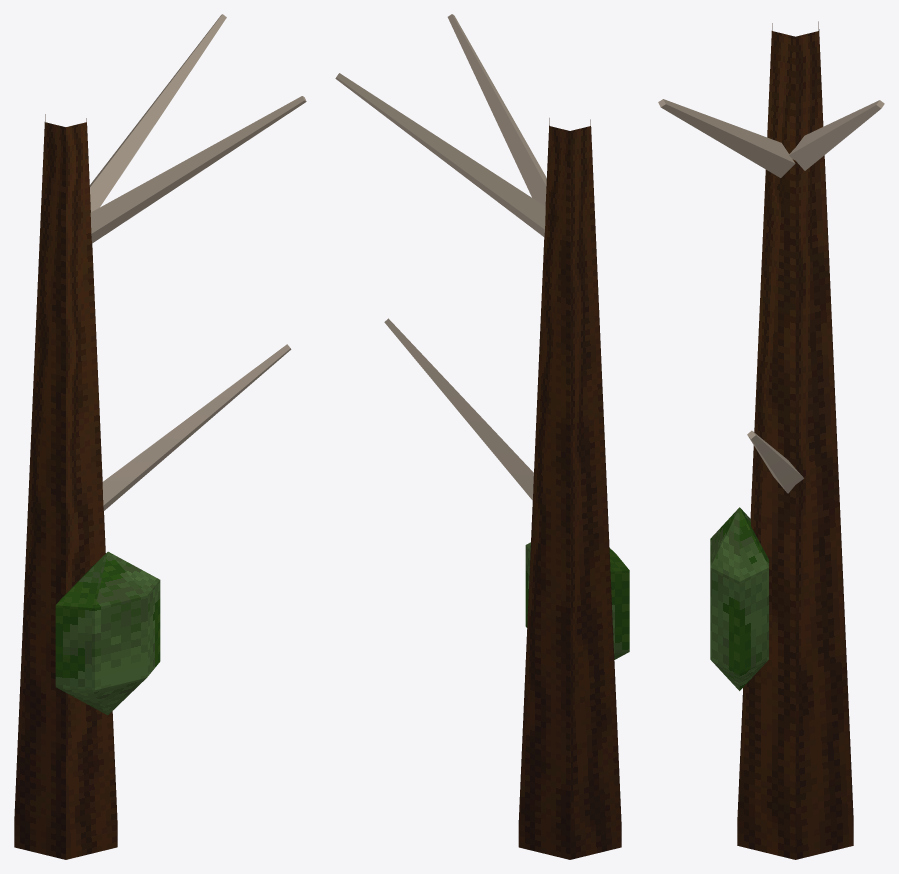
File: dead_snag.glb
The picture shows the model from 3 angles, left to right: view 1: azimuth 30°, elevation 25°; view 2: azimuth 150°, elevation 25°; view 3: azimuth 270°, elevation 25°; orthographic projection. The views are drawn at different scales.
Visible parts, largest first — view 1: dead_snag; view 2: dead_snag; view 3: dead_snag.
Part boxes in pixels (box(x1,y1,x2,y2)): dead_snag: box(14, 14, 306, 859); dead_snag: box(335, 14, 629, 859); dead_snag: box(658, 21, 884, 859).
Size of the model in its own units: 1.49 by 4.14 by 1.01.
3 materials, 2 textured.
